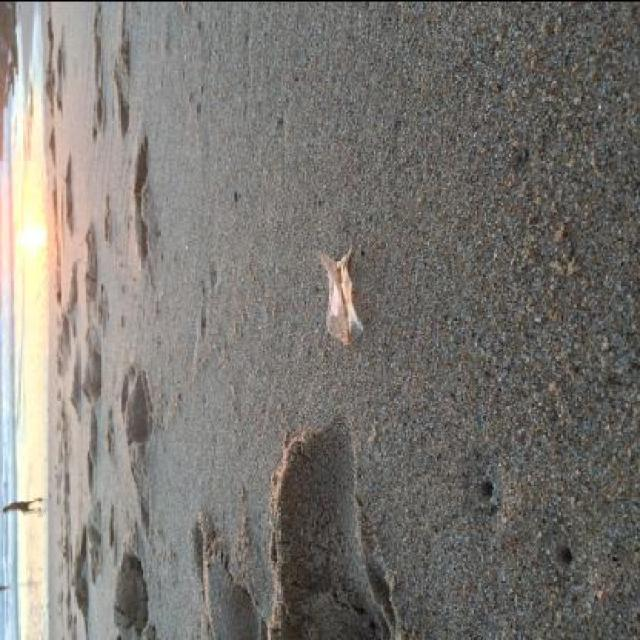plastic: (316, 244, 364, 344)
